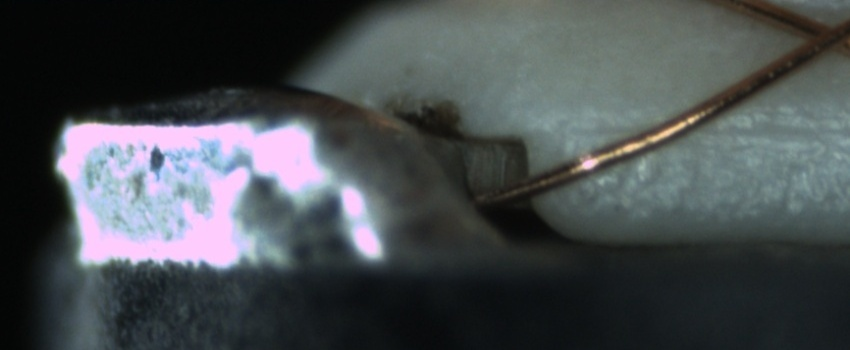CL: (781, 6, 848, 64)
DL: (571, 97, 846, 159)
